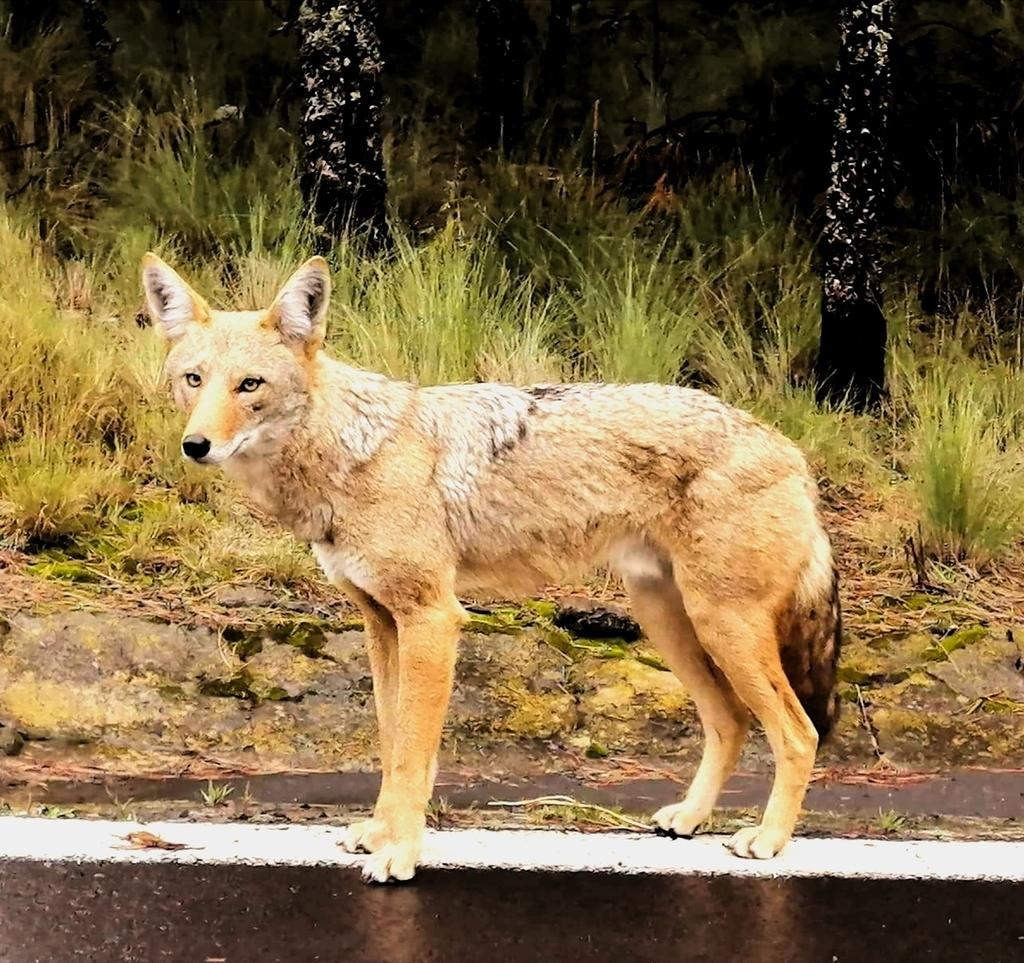Coyote: (133, 249, 844, 890)
